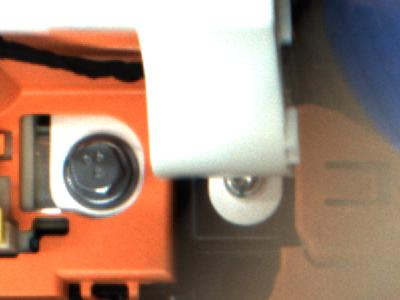nut_b: (61, 138, 138, 207)
